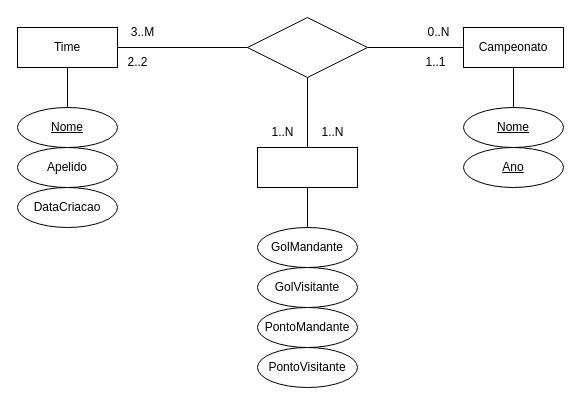
Some shapes in this 581 by 405 pixel diagram are drawn without their labels. The centre of each missing label's shape, as x and y in pixels:
"Jogo" goes at point (307, 167).
"participa" goes at point (307, 47).
